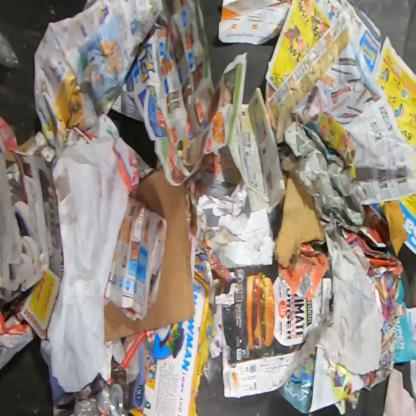cardboard: (104, 168, 195, 342), (214, 260, 333, 364), (0, 130, 64, 321), (275, 171, 325, 268)
rigid_plastic: (69, 382, 125, 416)
soft_plastic: (0, 23, 20, 68)
